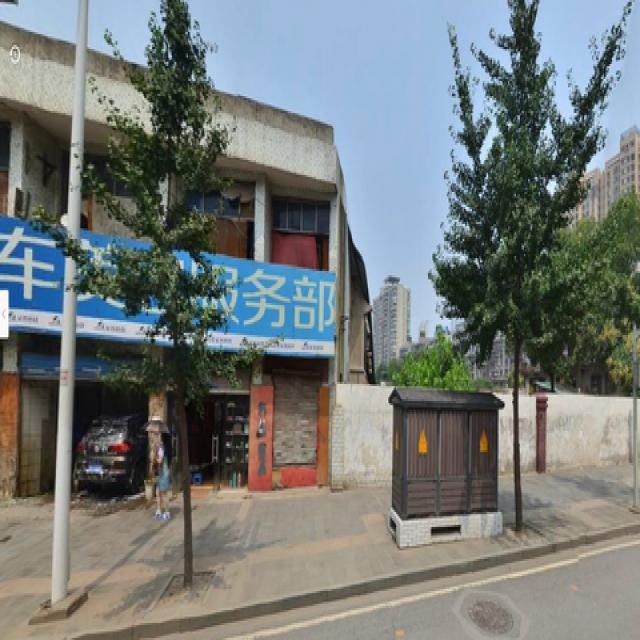gink: (104, 9, 223, 580)
